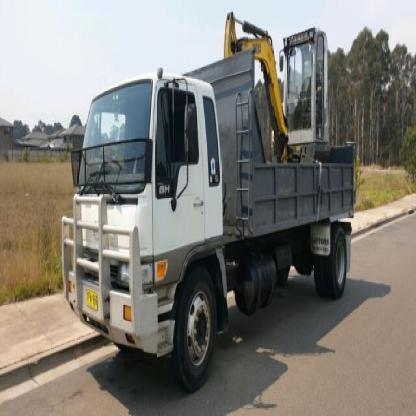dump_truck: (47, 52, 380, 387)
